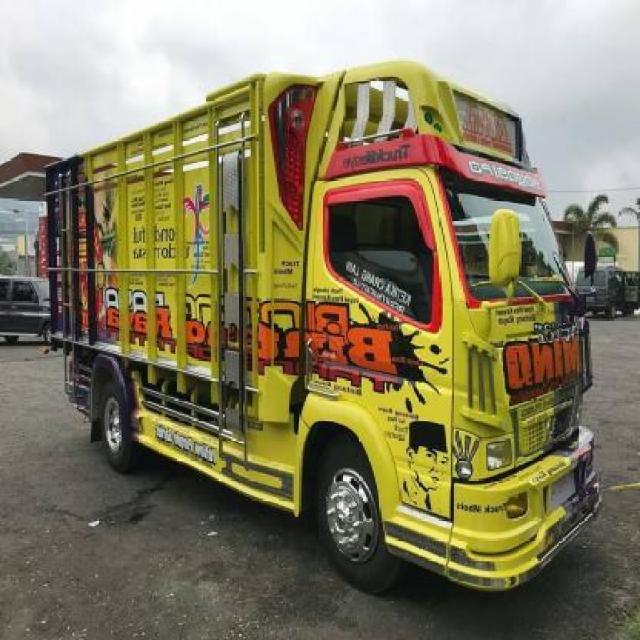truck: (47, 58, 604, 595)
